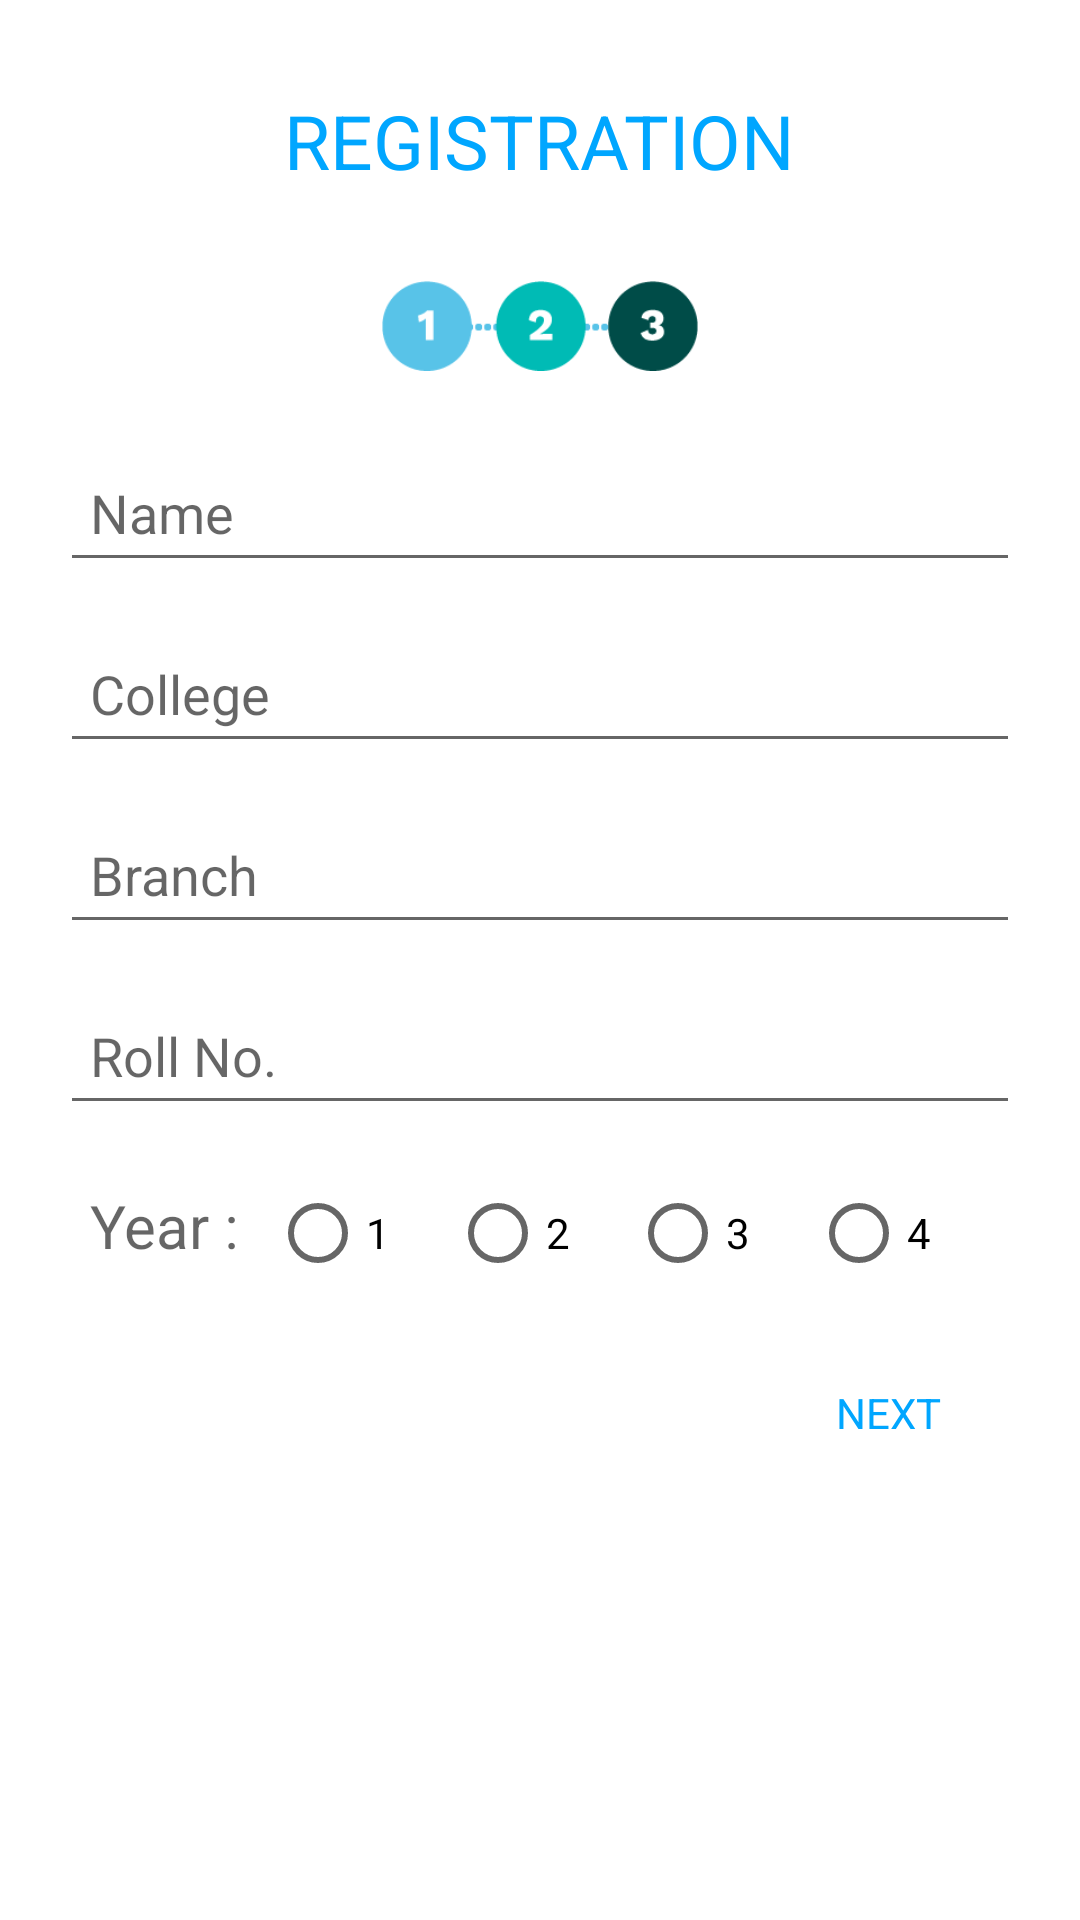

Screen size 1080×1920. Icon name, then its box in pixels as [x1,y1,x2,y2]:
steps: [382,281,698,371]
